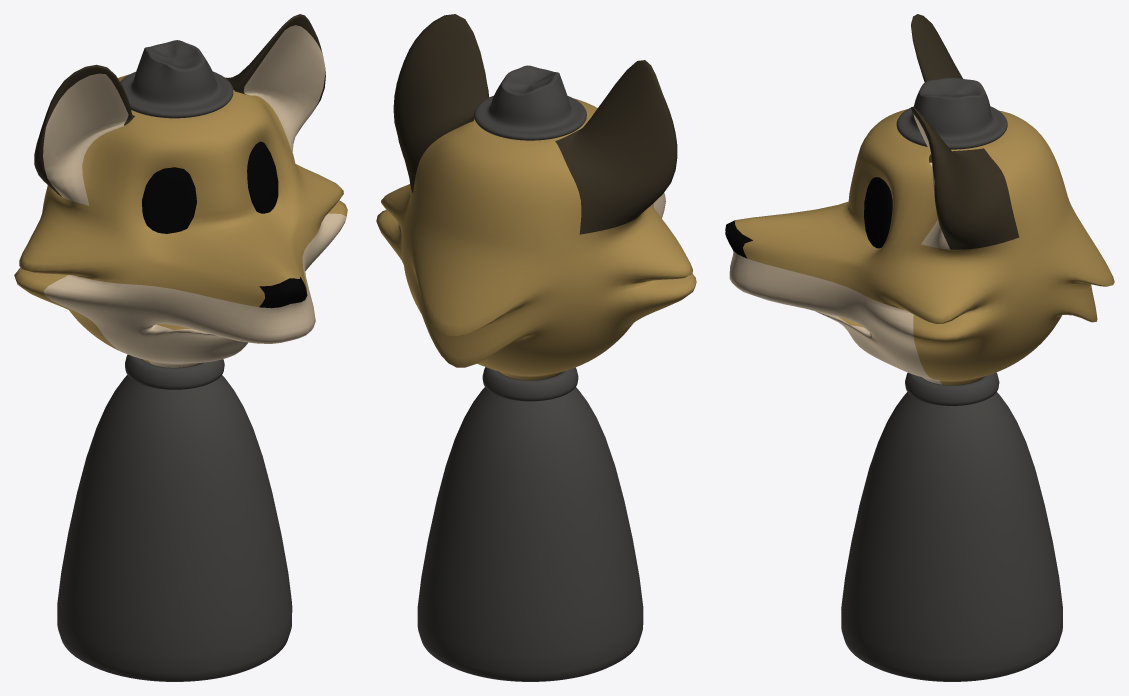
File: char.fbx
3 renders of one model, left to right at view 1: azimuth 30°, elevation 25°; view 2: azimuth 150°, elevation 25°; view 3: azimuth 270°, elevation 25°, orthographic. The views are drawn at different scales.
Parts seen in each view (by area): view 1: pCylinder2; view 2: pCylinder2; view 3: pCylinder2.
Part boxes in pixels (x1,y1,x2,y2): pCylinder2: [14, 14, 347, 681]; pCylinder2: [376, 14, 696, 681]; pCylinder2: [725, 14, 1114, 681].
Size of the model in its own units: 2.17 by 3.93 by 2.4.
